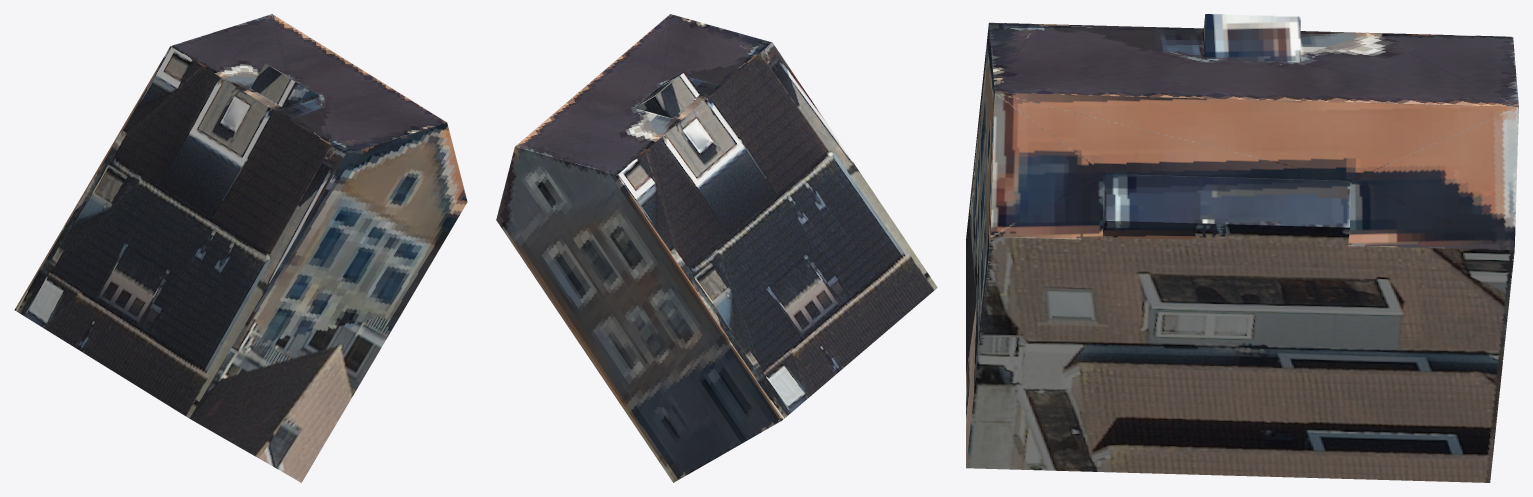
3 renders of one model, left to right at view 1: azimuth 30°, elevation 25°; view 2: azimuth 150°, elevation 25°; view 3: azimuth 270°, elevation 25°, orthographic. The views are drawn at different scales.
Parts seen in each view (by area): view 1: BAG_0599100000688723 (×5); view 2: BAG_0599100000688723 (×6); view 3: BAG_0599100000688723 (×7).
Part boxes in pixels (bbox=[...]): BAG_0599100000688723 (×5): bbox=[14, 14, 467, 482]; BAG_0599100000688723 (×6): bbox=[496, 14, 937, 482]; BAG_0599100000688723 (×7): bbox=[966, 14, 1518, 482].
Bounding box in the file's own units: 12.96 × 13.7 × 12.97.
1 material, 1 textured.
